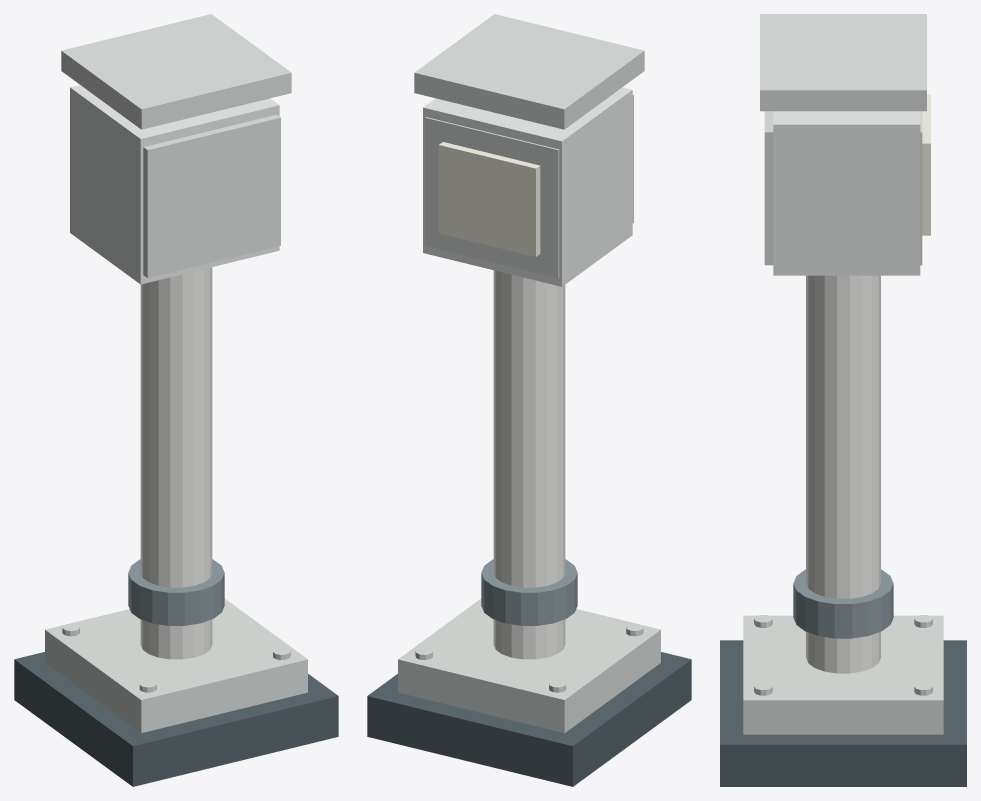
File: exterior_path_beacon.glb
3 views of the same model, side by side, from view 1: azimuth 30°, elevation 25°; view 2: azimuth 150°, elevation 25°; view 3: azimuth 270°, elevation 25° (orthographic). The views are drawn at different scales.
Visible parts, largest first — view 1: beacon_mast_white_painted, metal_base_satin_steel, beacon_lamp_protective_cage_satin_steel, ground_foot_black_rubber, beacon_cap_warm_panel, beacon_lamp_body_white_ceramic, beacon_lower_collars_dark_alloy, mount_bolts_satin_steel; view 2: beacon_mast_white_painted, metal_base_satin_steel, ground_foot_black_rubber, beacon_cap_warm_panel, beacon_lamp_body_white_ceramic, beacon_light_diffuser_light_diffuser, beacon_lamp_protective_cage_satin_steel, beacon_lower_collars_dark_alloy, mount_bolts_satin_steel; view 3: beacon_mast_white_painted, beacon_lamp_body_white_ceramic, metal_base_satin_steel, ground_foot_black_rubber, beacon_cap_warm_panel, beacon_lower_collars_dark_alloy, beacon_lamp_protective_cage_satin_steel, beacon_light_diffuser_light_diffuser, mount_bolts_satin_steel.
Boxes of the visible parts, box(x1,y1,x2,y2) form: beacon_mast_white_painted: box(140, 267, 212, 659); metal_base_satin_steel: box(45, 598, 307, 733); beacon_lamp_protective_cage_satin_steel: box(143, 114, 280, 277); ground_foot_black_rubber: box(14, 652, 338, 786); beacon_cap_warm_panel: box(61, 14, 291, 129); beacon_lamp_body_white_ceramic: box(70, 85, 279, 284); beacon_lower_collars_dark_alloy: box(128, 559, 224, 625); mount_bolts_satin_steel: box(62, 623, 290, 692); beacon_mast_white_painted: box(493, 270, 565, 659); metal_base_satin_steel: box(398, 598, 660, 733); ground_foot_black_rubber: box(367, 652, 691, 786); beacon_cap_warm_panel: box(414, 14, 644, 129); beacon_lamp_body_white_ceramic: box(423, 87, 632, 286); beacon_light_diffuser_light_diffuser: box(438, 142, 540, 256); beacon_lamp_protective_cage_satin_steel: box(425, 94, 633, 277); beacon_lower_collars_dark_alloy: box(481, 559, 577, 625); mount_bolts_satin_steel: box(415, 623, 643, 692); beacon_mast_white_painted: box(806, 275, 880, 673); beacon_lamp_body_white_ceramic: box(773, 111, 920, 275); metal_base_satin_steel: box(743, 615, 943, 734); ground_foot_black_rubber: box(720, 640, 966, 786); beacon_cap_warm_panel: box(760, 14, 926, 111); beacon_lower_collars_dark_alloy: box(793, 569, 893, 638); beacon_lamp_protective_cage_satin_steel: box(764, 111, 922, 265); beacon_light_diffuser_light_diffuser: box(922, 94, 930, 235); mount_bolts_satin_steel: box(754, 615, 932, 695).
Size of the model in its own units: 0.37 by 1.13 by 0.37.
